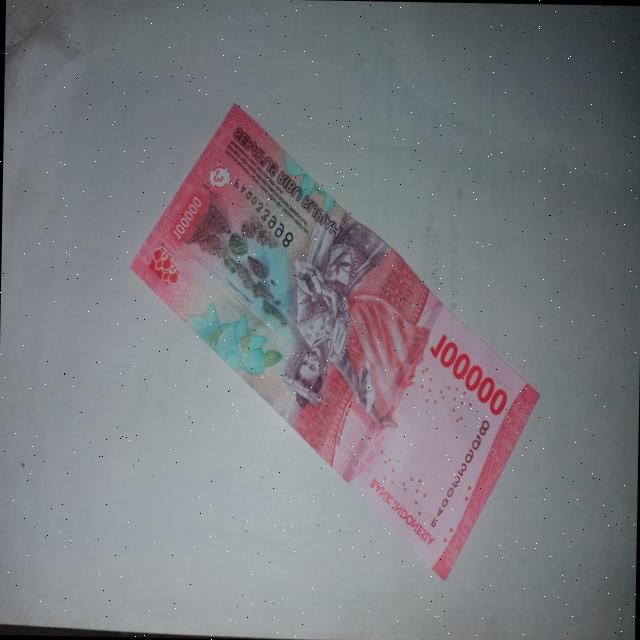100K: (131, 93, 552, 580)
